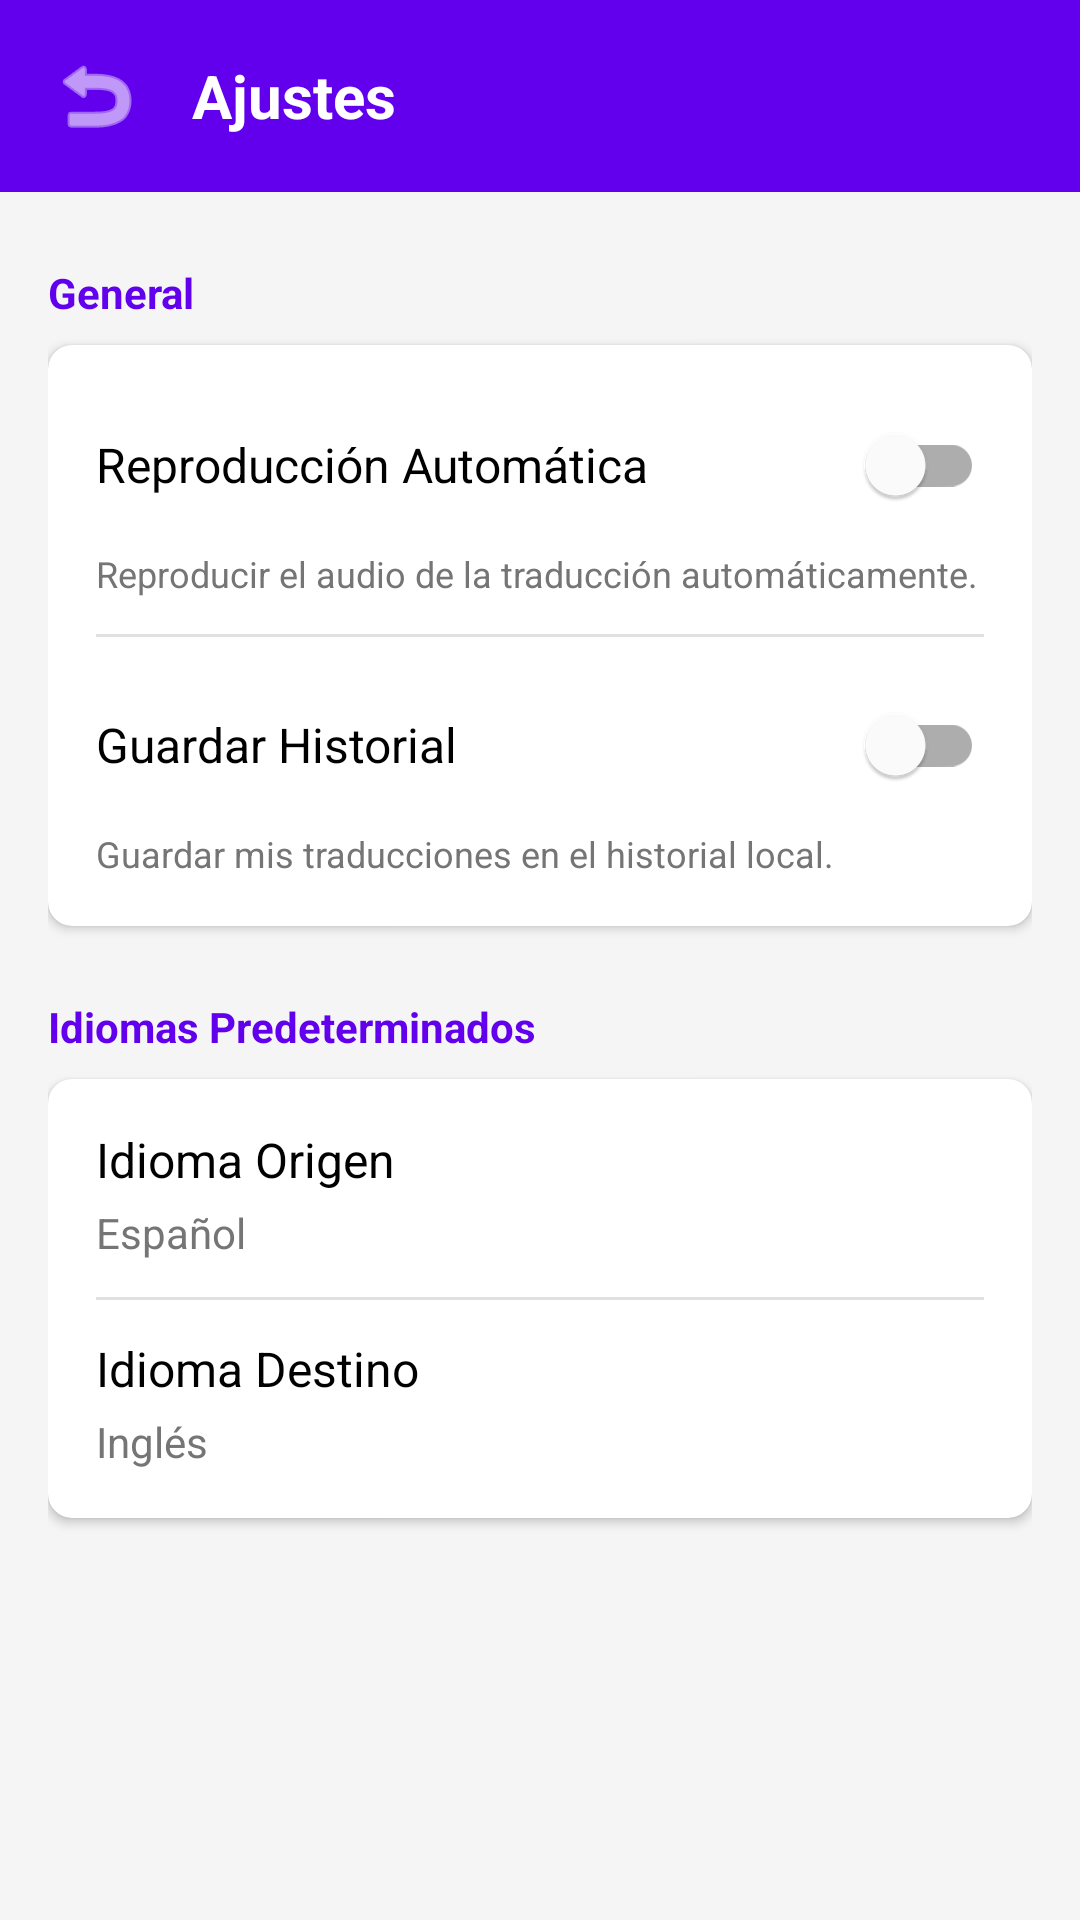

Locate icon controls on the screen. Image size 1080w x 1920h, boxes as Rect(x1, y1, x2, y2).
Volver: Rect(63, 65, 132, 128)
